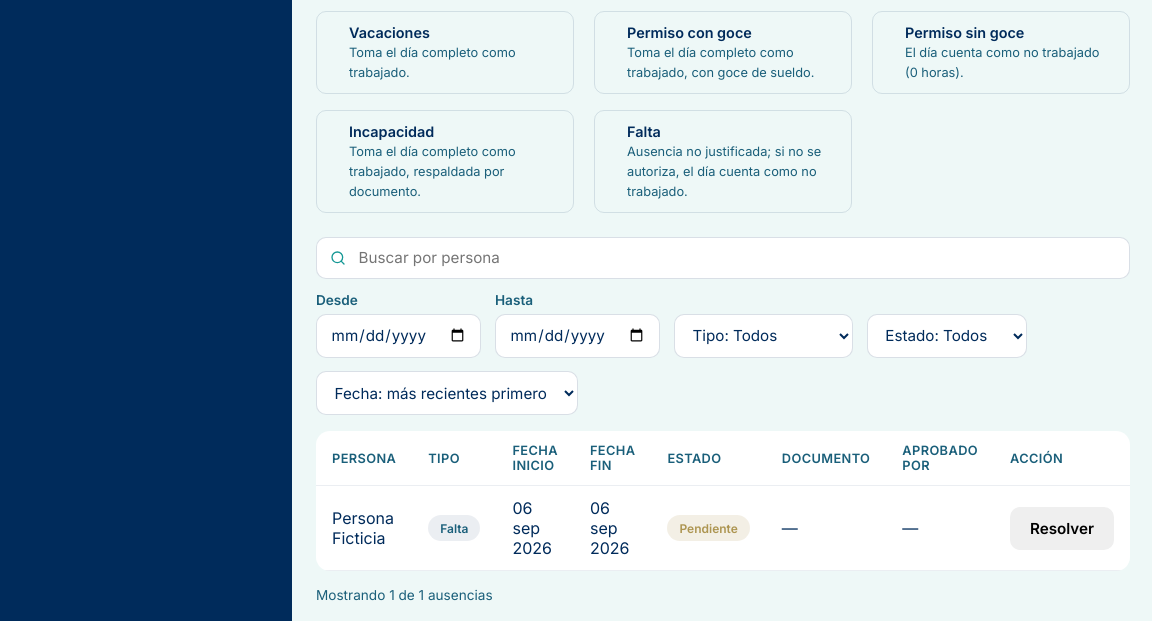
Test: BandejaAusenciasPage › ausencia propia › si aun así llega el 403, muestra el mensaje del backend
(page scrolled)
Expected: the text "Persona Ficticia" is shown, [316,486,412,571]
Click the button "Resolver". click: [1062, 528]
box: [1010,507,1114,550]
(page scrolled)
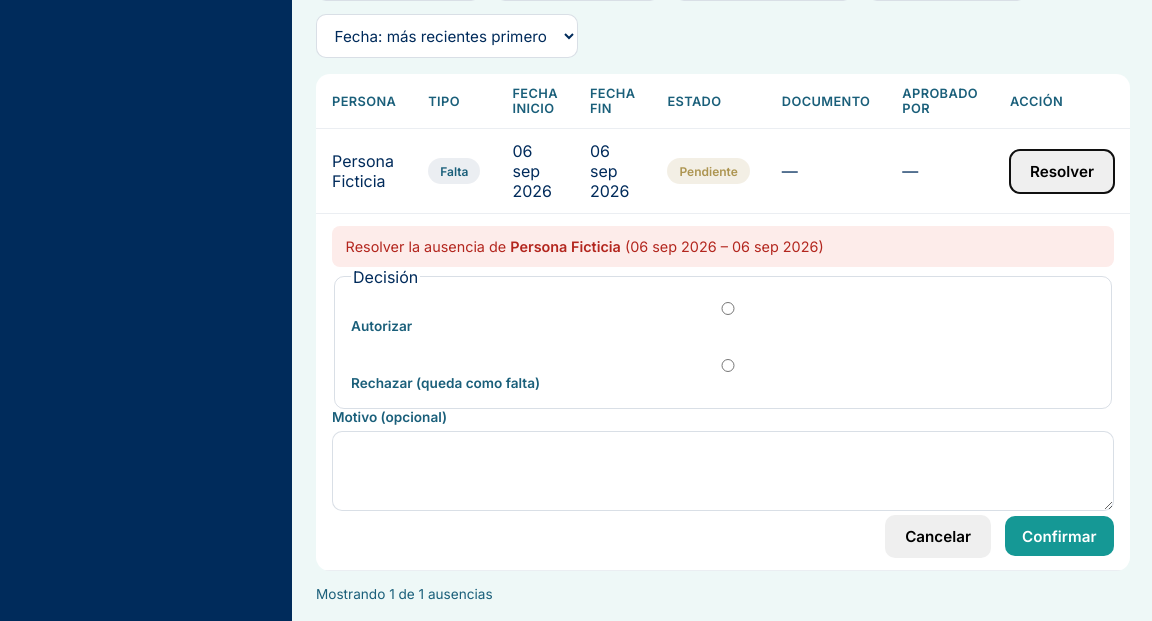
Click the radio button labelled "Rechazar (queda como falta)". click: [728, 365]
box: [356,358,1100,372]
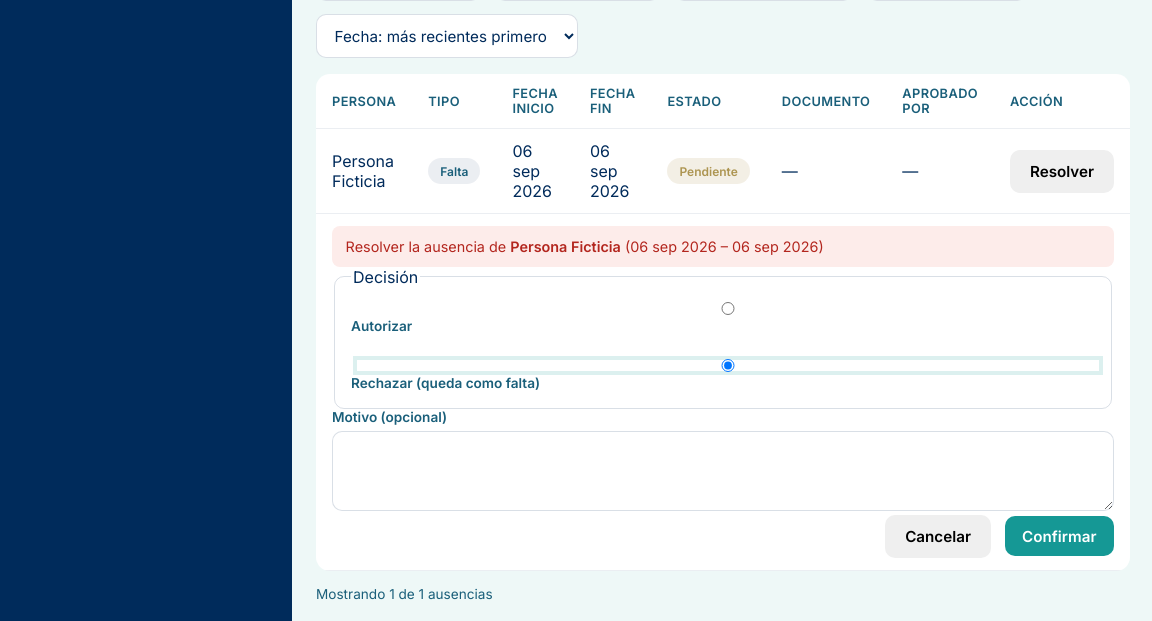
Click the button "Confirmar". click: [1059, 536]
box: [1004,516,1114,556]
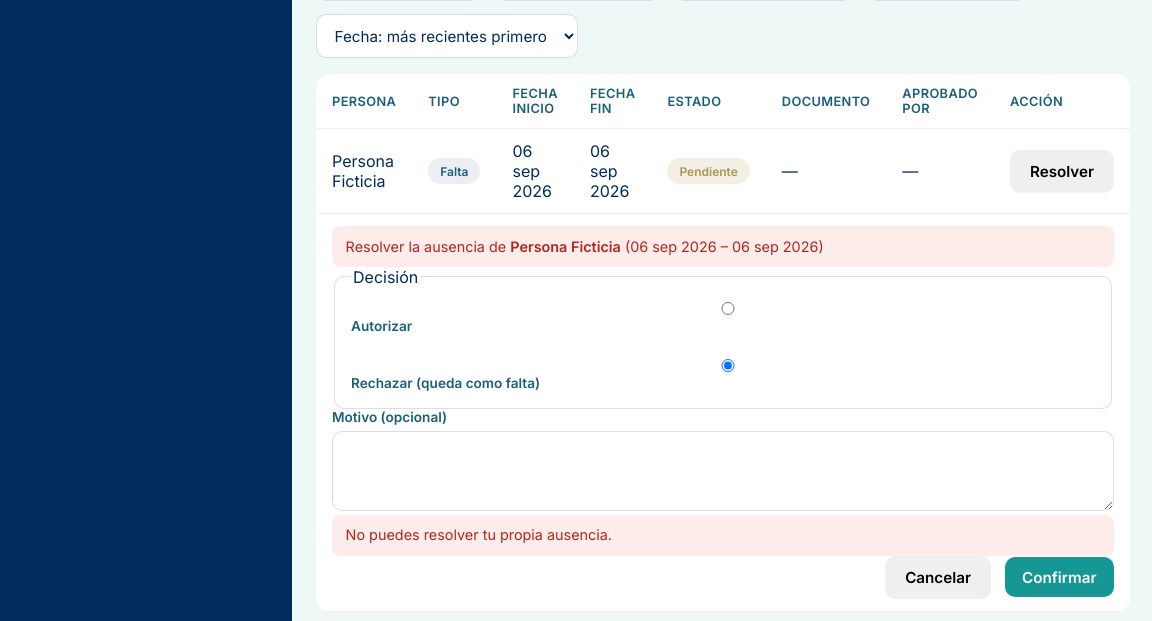
Expected: the text "No puedes resolver tu propia ausencia." is shown, [332,515,1114,556]
